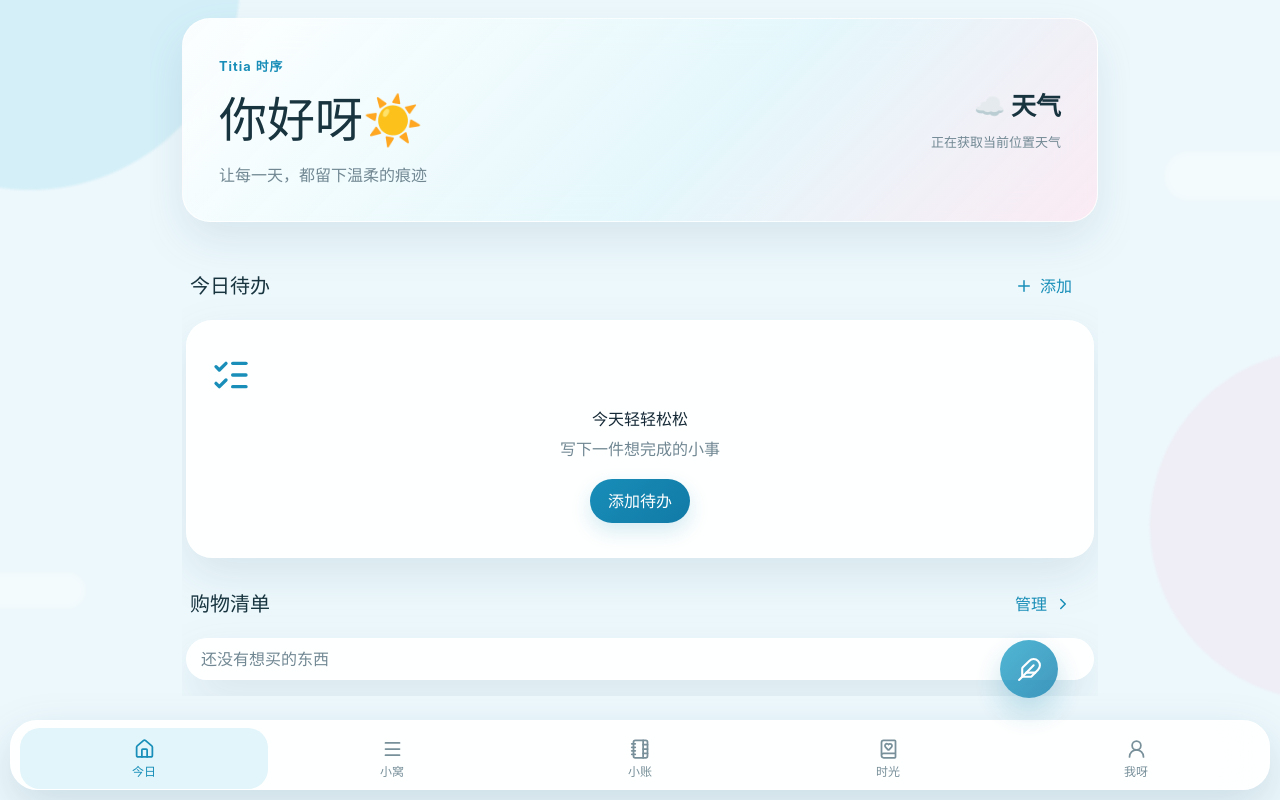
Scenario: TitiaApp › keeps Spark out of the Time sidebar and opens it fullscreen from the FAB
Click the button "时光": x=888, y=758 [764,728,1012,789]
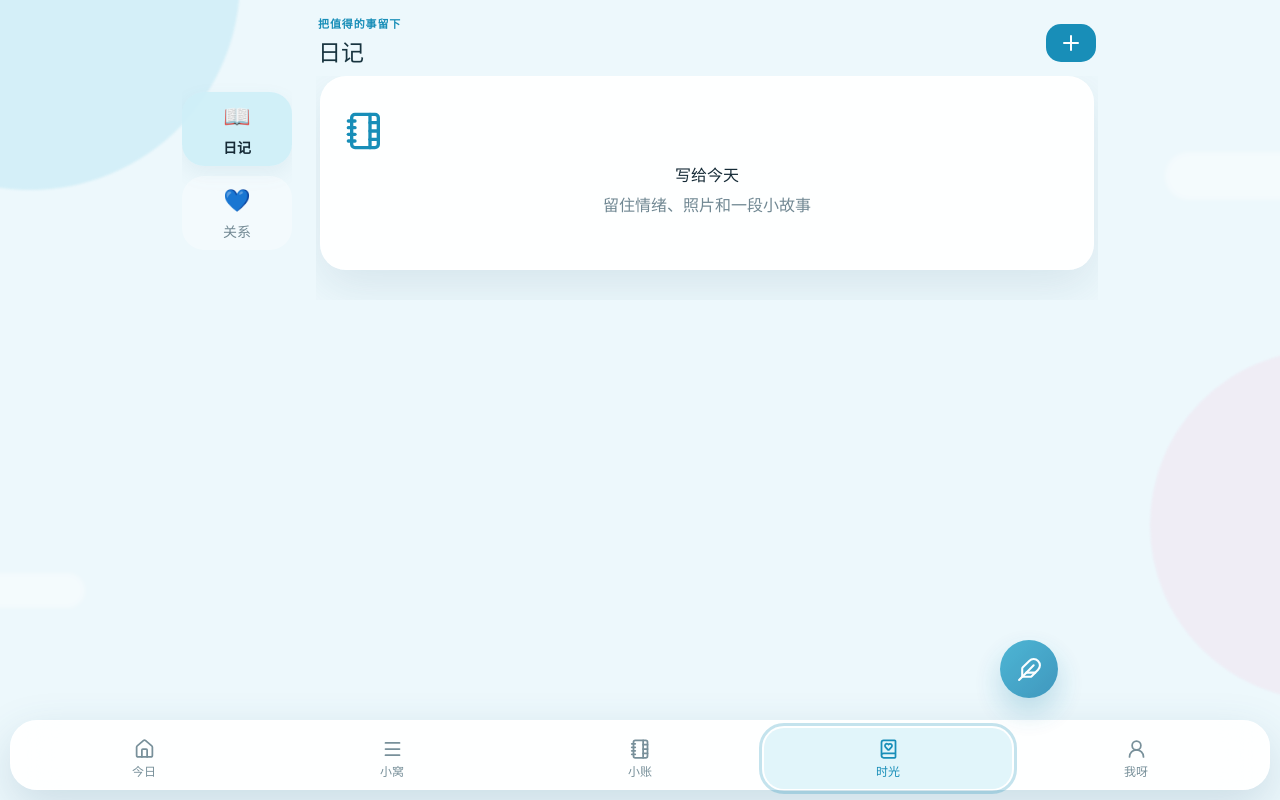
Click the button named "灵光一闪": x=1029, y=669 [1000,640,1058,698]
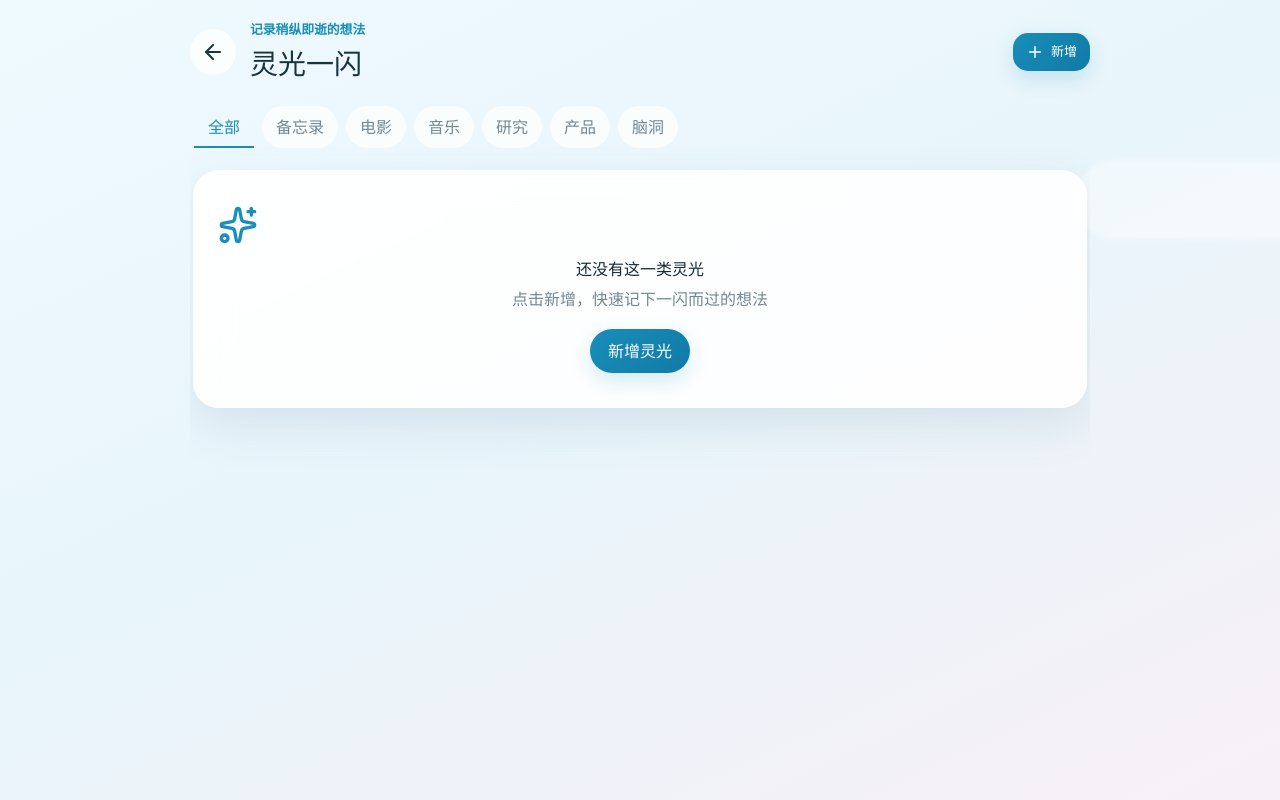
expect the navigation bar "主导航" is gone: met
Click the button named "返回原页面": x=213, y=52 [190,29,236,75]
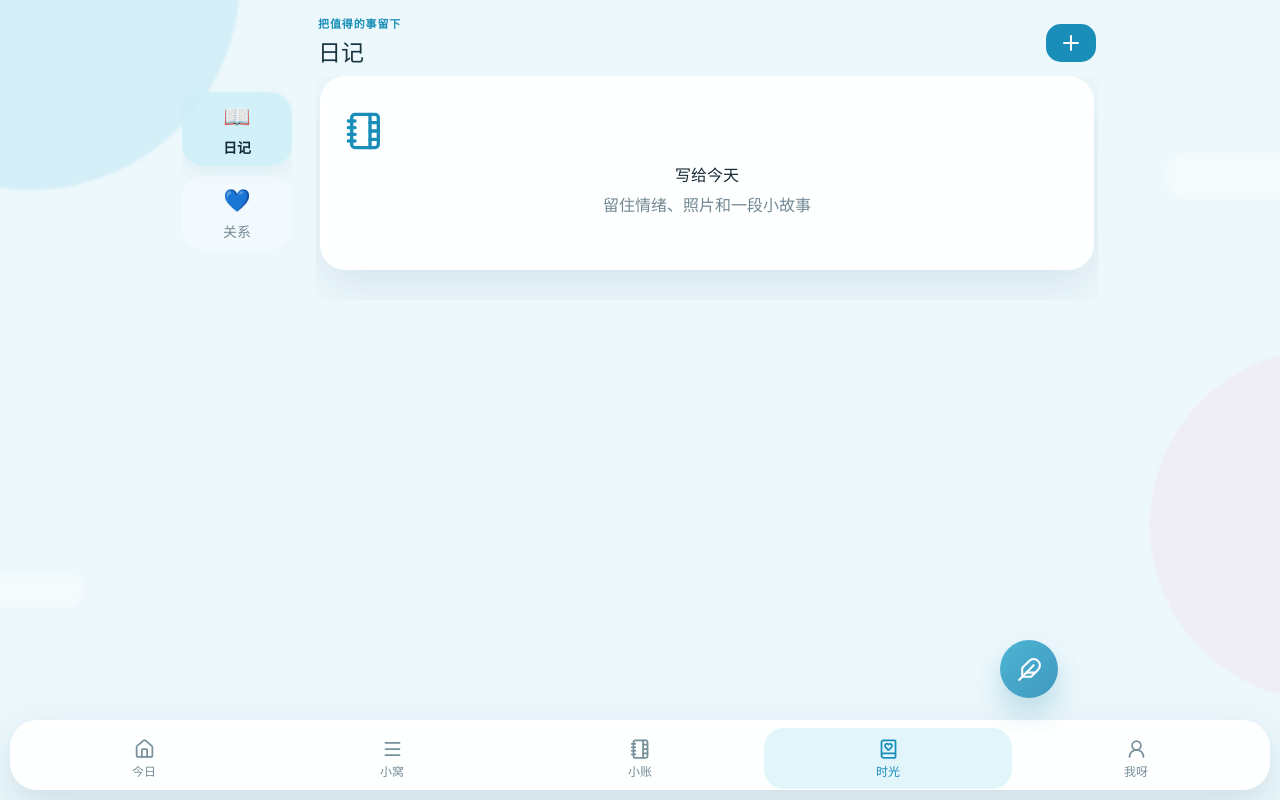
Click the button "💙 关系": x=237, y=213 [182,176,292,250]
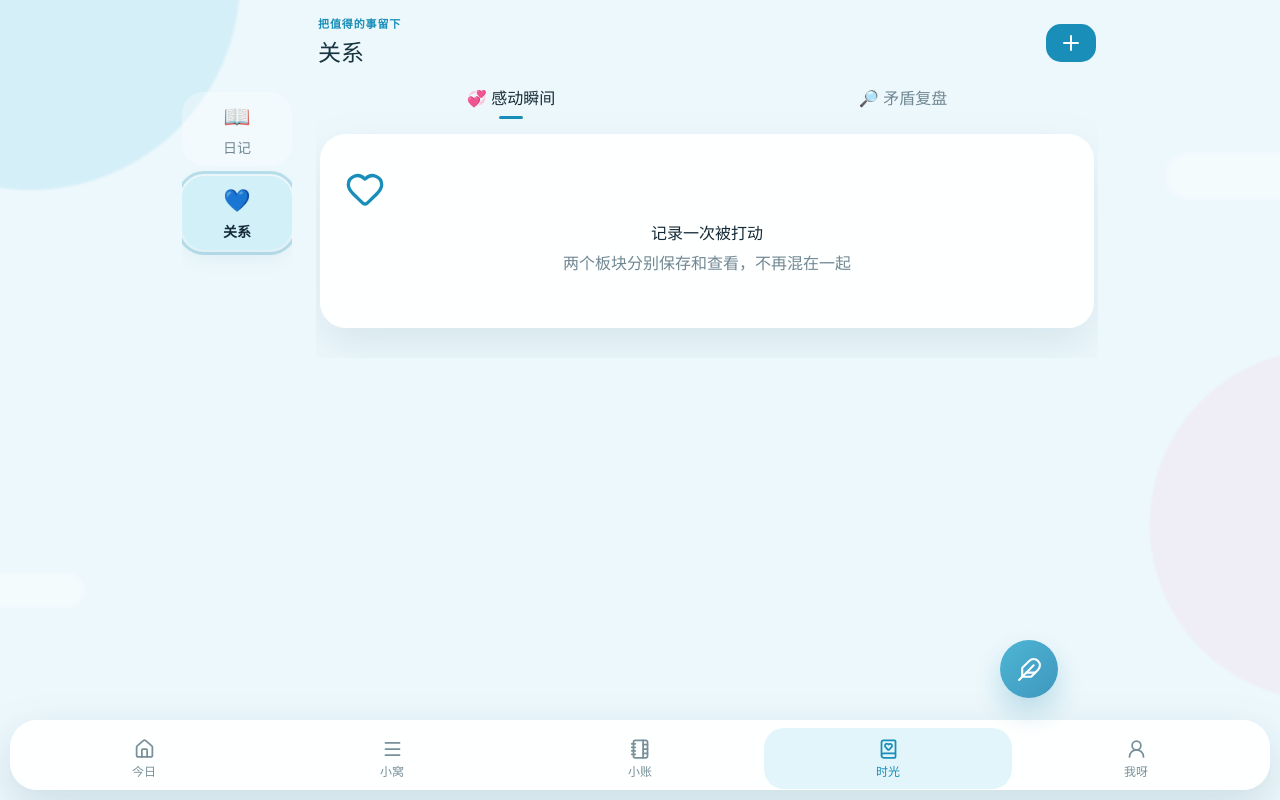
Click the button "🔎 矛盾复盘": x=903, y=98 [712,76,1094,120]
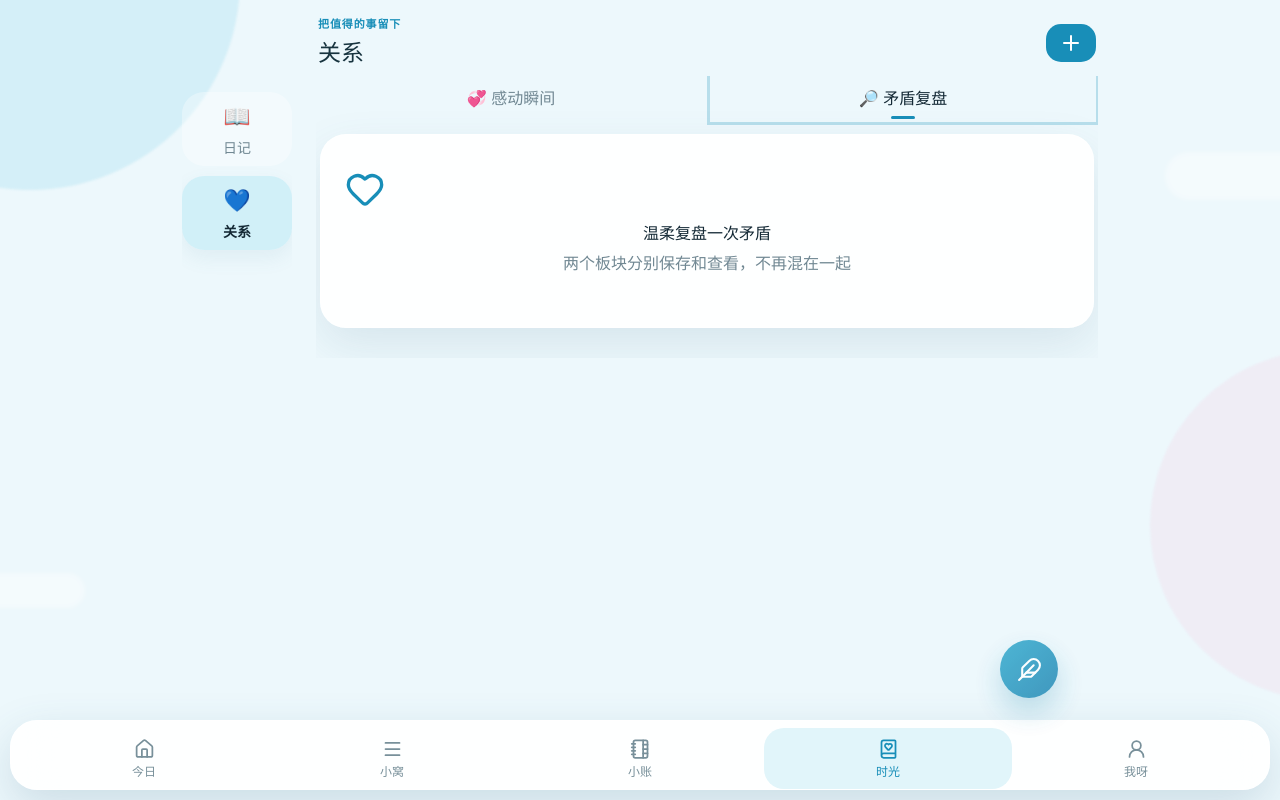
expect the button "🔎 矛盾复盘" has class "active": met, box [712,76,1094,120]
